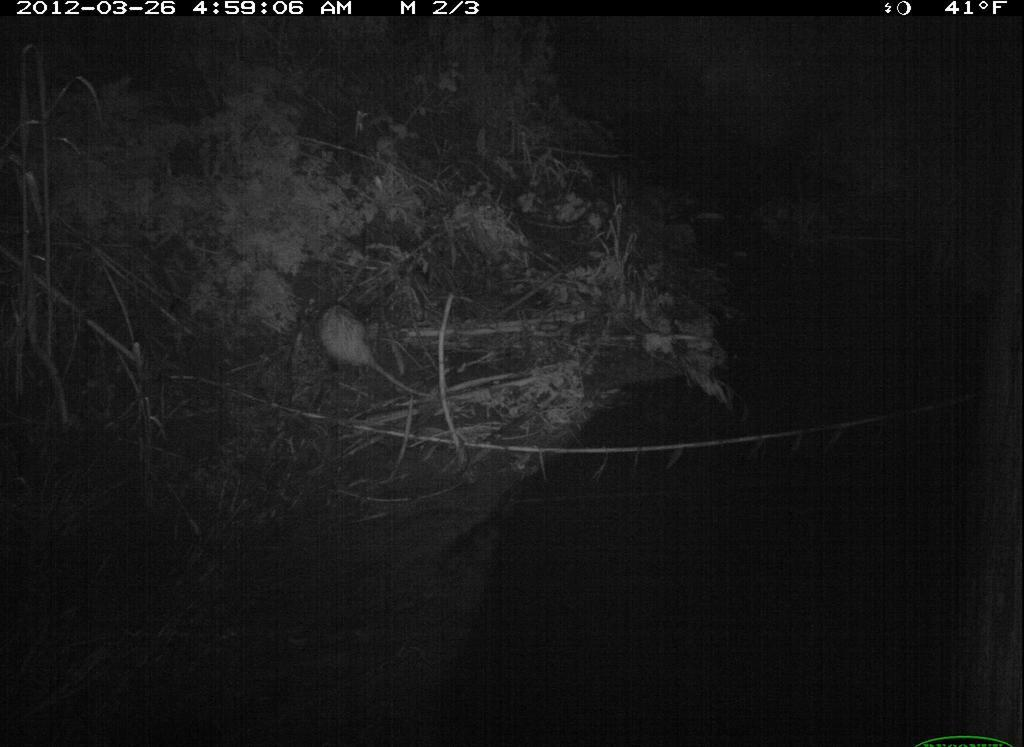opossum: (310, 292, 434, 405)
